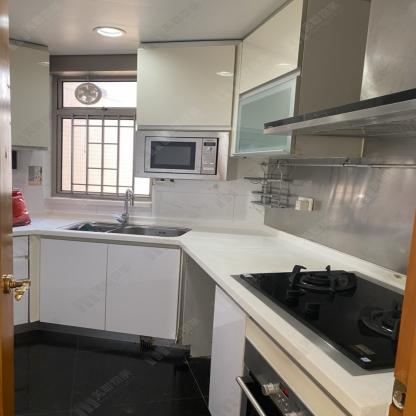Cupboard: (134, 0, 297, 156), (29, 238, 188, 340)
Exhaust Fan: (74, 81, 106, 107)
Exhaust Hood: (261, 3, 416, 139)
Faucet: (116, 184, 140, 227)
Microwave: (131, 129, 232, 181)
Oven: (242, 340, 315, 415)
Sink: (56, 217, 197, 243)
Stove: (230, 264, 406, 375)
